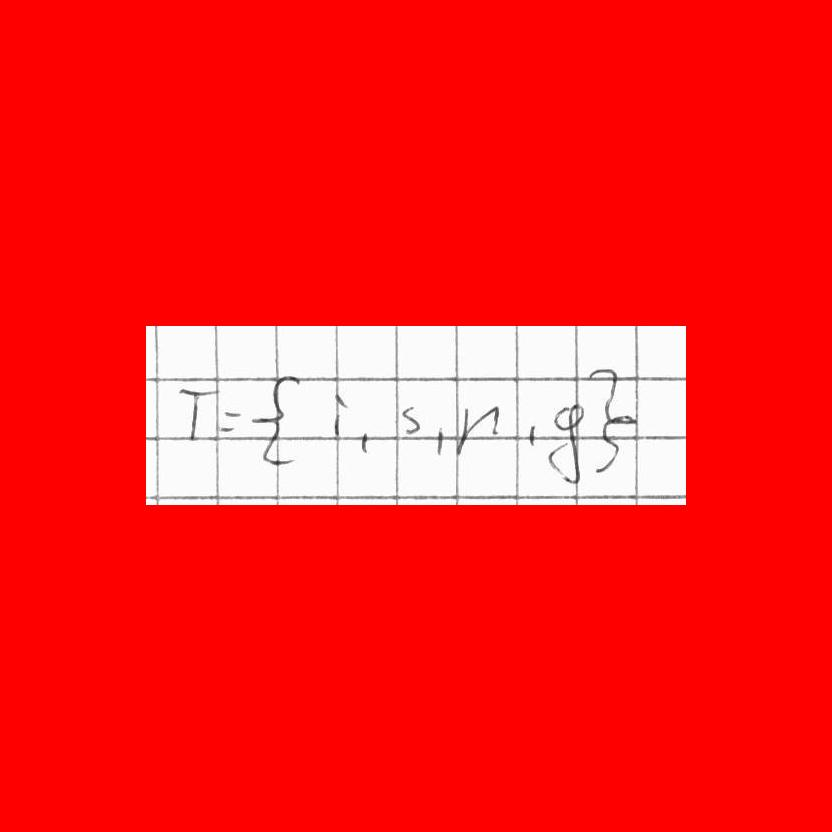Char: (249, 367, 313, 469), (586, 363, 638, 473), (545, 398, 587, 487), (453, 402, 508, 462), (178, 382, 221, 447), (328, 387, 352, 444), (398, 400, 420, 437), (214, 405, 240, 435), (430, 424, 451, 459), (523, 420, 543, 452), (357, 425, 375, 457)
